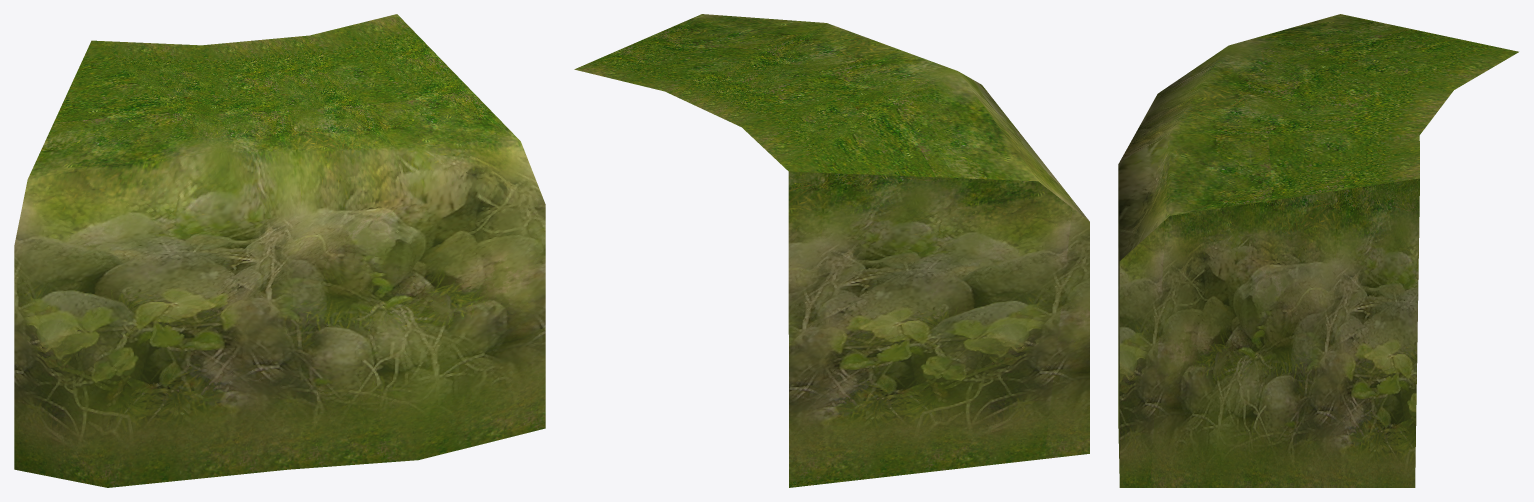
File: n_tilewallD_2.glb
The picture shows the model from 3 angles, left to right: view 1: azimuth 30°, elevation 25°; view 2: azimuth 150°, elevation 25°; view 3: azimuth 270°, elevation 25°; orthographic projection. The views are drawn at different scales.
Parts seen in each view (by area): view 1: n_tilewallD_2; view 2: n_tilewallD_2; view 3: n_tilewallD_2.
Boxes of the visible parts, x1,y1,x2,y2 form: n_tilewallD_2: [14, 14, 545, 487]; n_tilewallD_2: [574, 14, 1089, 487]; n_tilewallD_2: [1118, 14, 1518, 487].
Bounding box in the file's own units: 5.14 × 3.41 × 4.01.
1 material, 1 textured.
